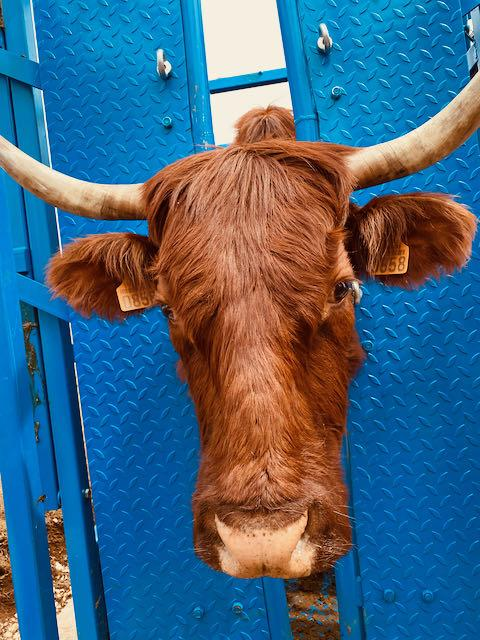muzzles: (178, 501, 362, 588)
